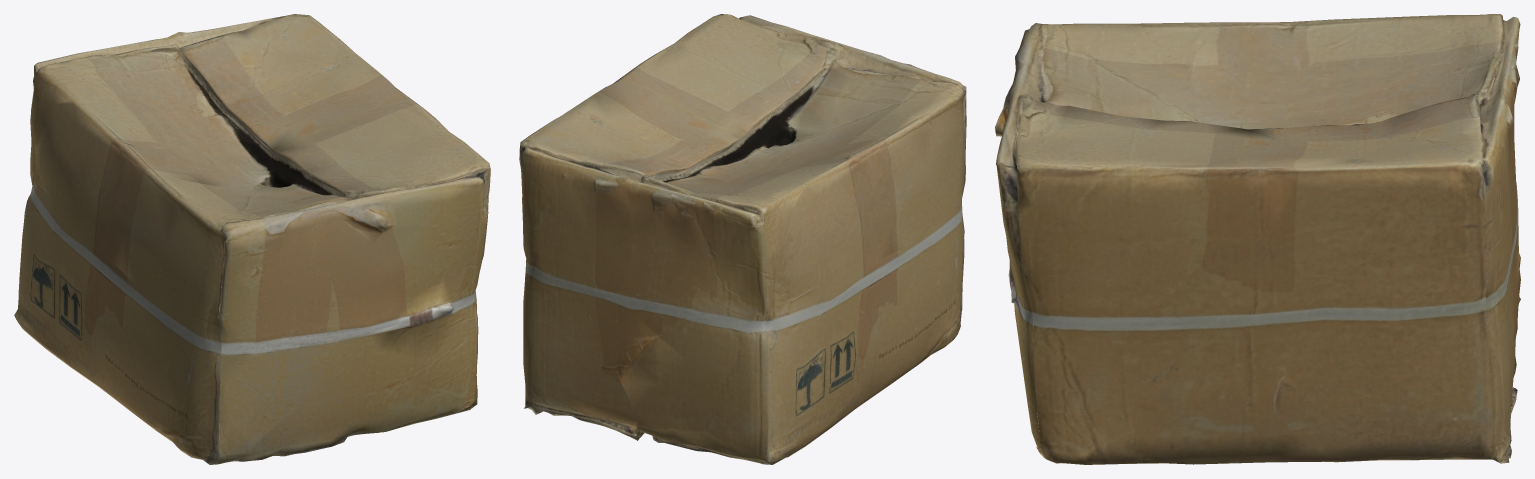
Rendered from cardboard_box_01.glb.
The picture shows the model from 3 angles, left to right: view 1: azimuth 30°, elevation 25°; view 2: azimuth 150°, elevation 25°; view 3: azimuth 270°, elevation 25°; orthographic projection. The views are drawn at different scales.
Parts seen in each view (by area): view 1: cardboard_box_01; view 2: cardboard_box_01; view 3: cardboard_box_01.
Part boxes in pixels (bbox=[...]): cardboard_box_01: bbox=[14, 14, 490, 464]; cardboard_box_01: bbox=[519, 14, 966, 464]; cardboard_box_01: bbox=[995, 14, 1520, 464].
Bounding box in the file's own units: 0.3871 × 0.3415 × 0.5159.
Materials: 1 (1 with a texture image).
